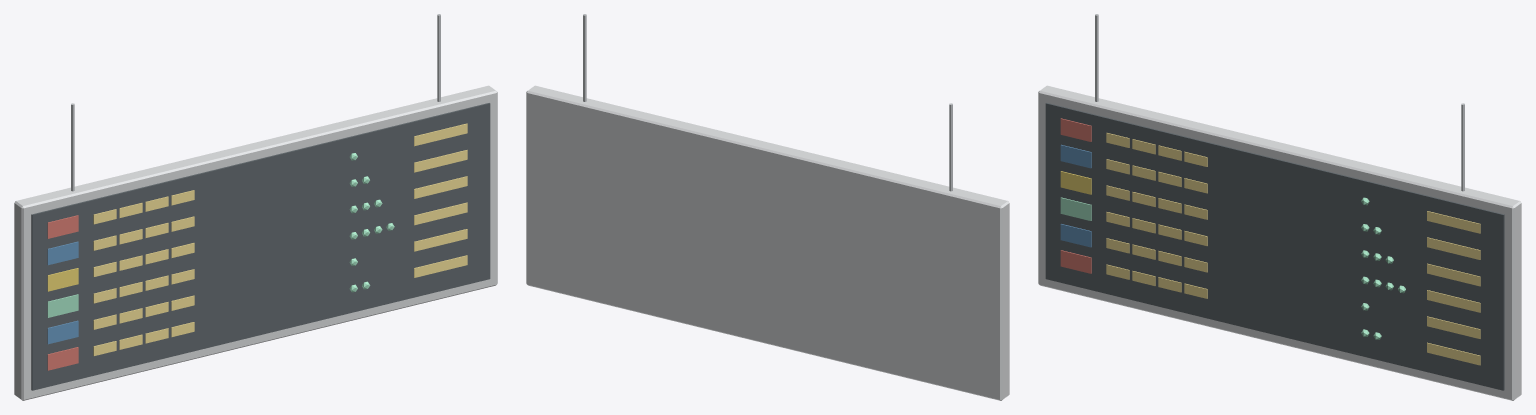
The model's file is depart_board.glb.
3 views of the same model, side by side, from view 1: azimuth 30°, elevation 25°; view 2: azimuth 150°, elevation 25°; view 3: azimuth 330°, elevation 25° (orthographic).
Parts seen in each view (by area): view 1: depart_board_board, depart_board_metal, depart_board_led_y, depart_board_led_g, depart_board_sign_r, depart_board_sign_b, depart_board_steel, depart_board_sign_y; view 2: depart_board_metal, depart_board_steel; view 3: depart_board_board, depart_board_metal, depart_board_led_y, depart_board_led_g, depart_board_sign_b, depart_board_sign_r, depart_board_steel, depart_board_sign_y.
Boxes of the visible parts, <box> form: depart_board_board: <box>31,103,490,390</box>; depart_board_metal: <box>14,85,497,400</box>; depart_board_led_y: <box>93,123,467,355</box>; depart_board_led_g: <box>47,153,394,317</box>; depart_board_sign_r: <box>47,215,78,370</box>; depart_board_sign_b: <box>47,241,78,344</box>; depart_board_steel: <box>71,14,440,191</box>; depart_board_sign_y: <box>47,268,78,291</box>; depart_board_metal: <box>526,85,1009,400</box>; depart_board_steel: <box>583,14,952,191</box>; depart_board_board: <box>1045,103,1504,390</box>; depart_board_metal: <box>1038,85,1521,400</box>; depart_board_led_y: <box>1106,133,1480,365</box>; depart_board_led_g: <box>1060,197,1405,339</box>; depart_board_sign_b: <box>1060,144,1091,247</box>; depart_board_sign_r: <box>1060,118,1091,273</box>; depart_board_steel: <box>1095,14,1464,191</box>; depart_board_sign_y: <box>1060,171,1091,194</box>.
Size of the model in its own units: 3.12 by 1.76 by 0.1413.
